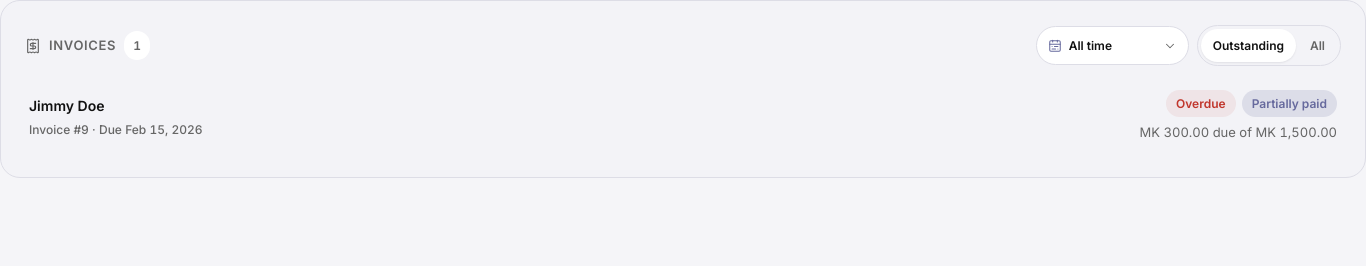
Test: InvoicesListPage › switching to All drops the balance filter
Check: the text "Jimmy Doe" is shown, box [29, 97, 104, 114]
Click the button "All": click(1318, 46) [1298, 29, 1337, 62]
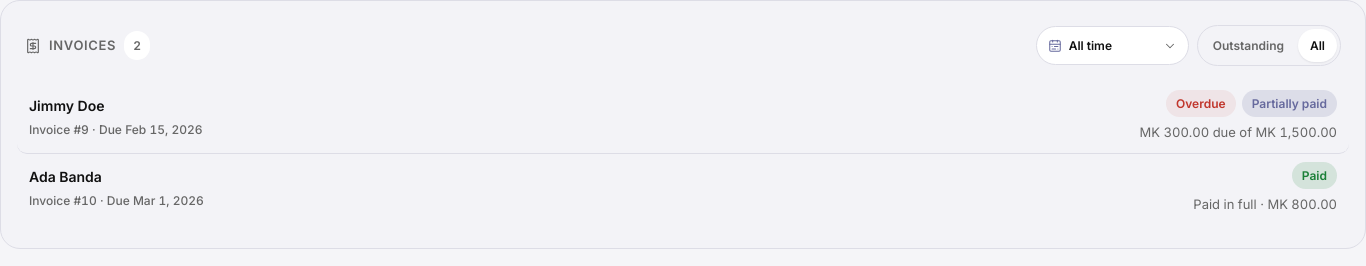
Check: the text "Ada Banda" is shown, box [29, 168, 102, 185]
